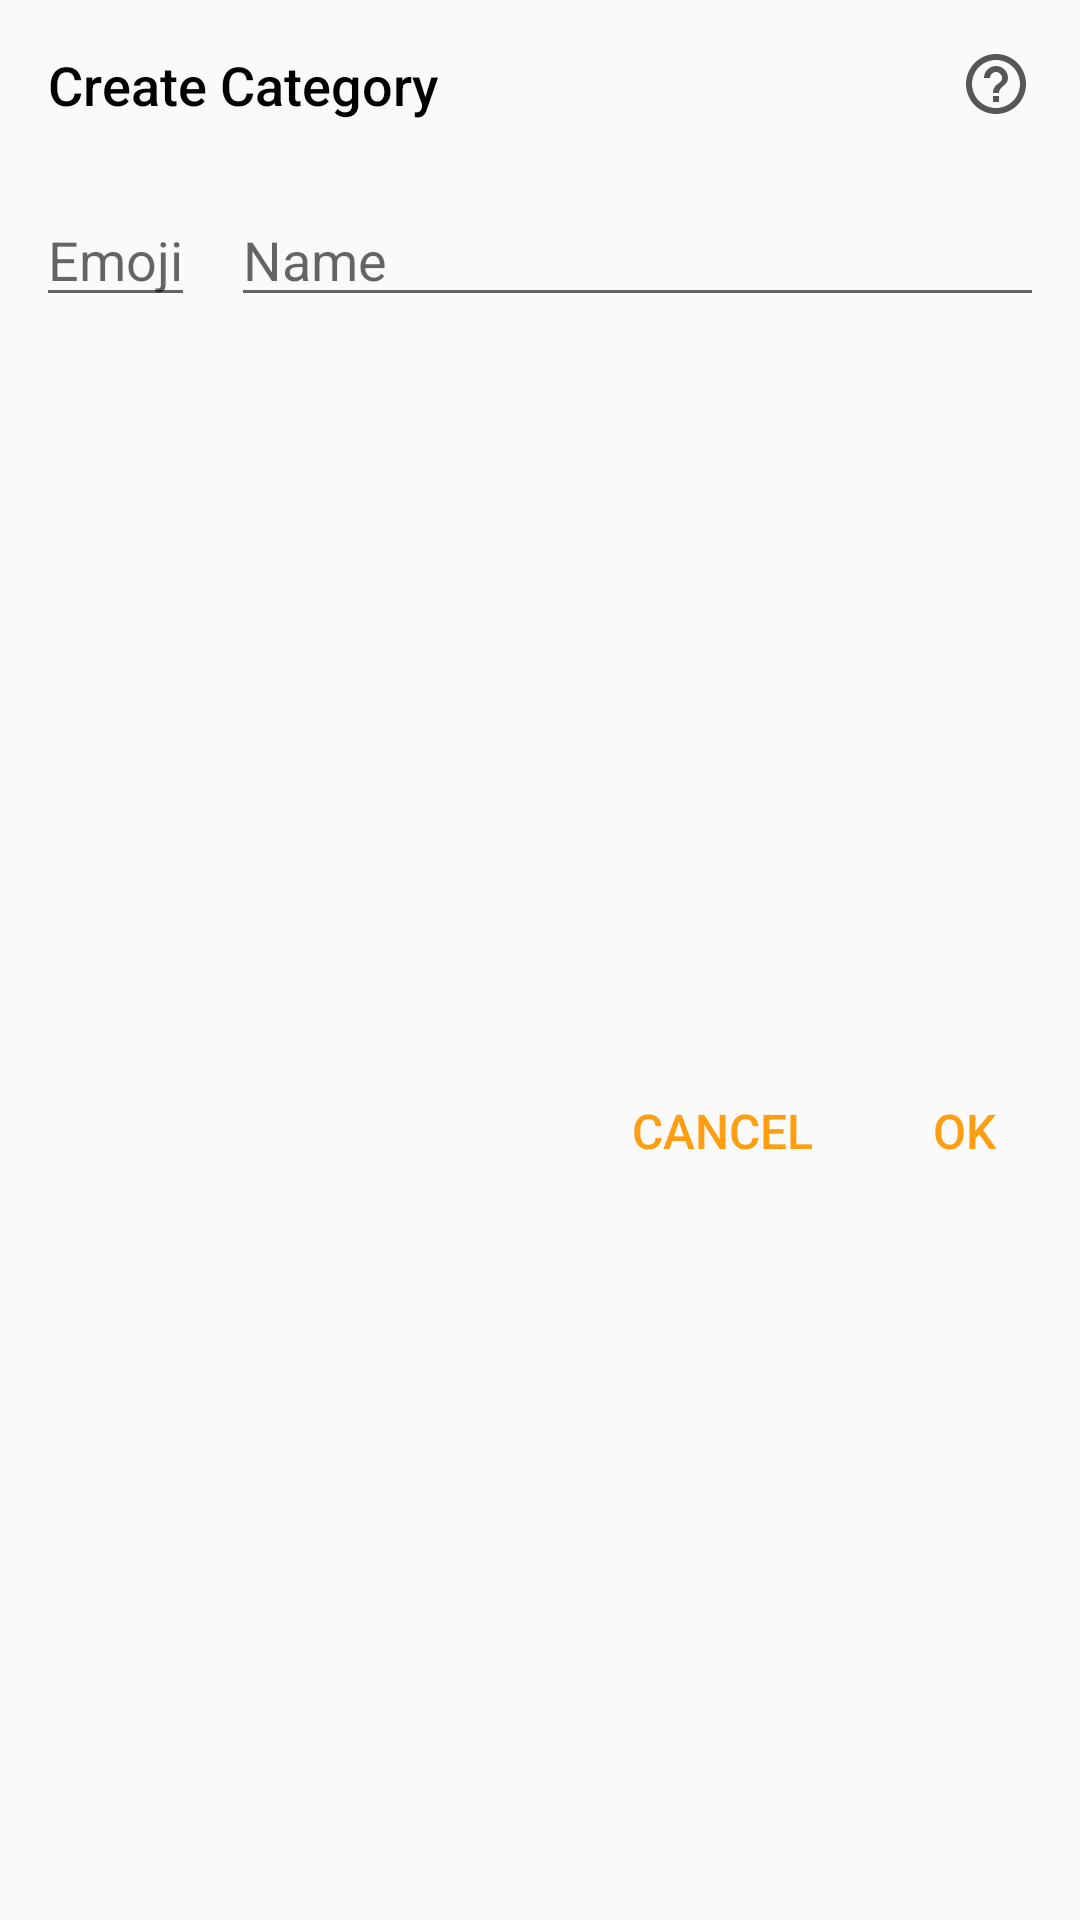

Icons on this 1080×1920 Android screen, each with its box as (x1, y1, x2, y2):
Create category help: (966, 54, 1026, 114)
